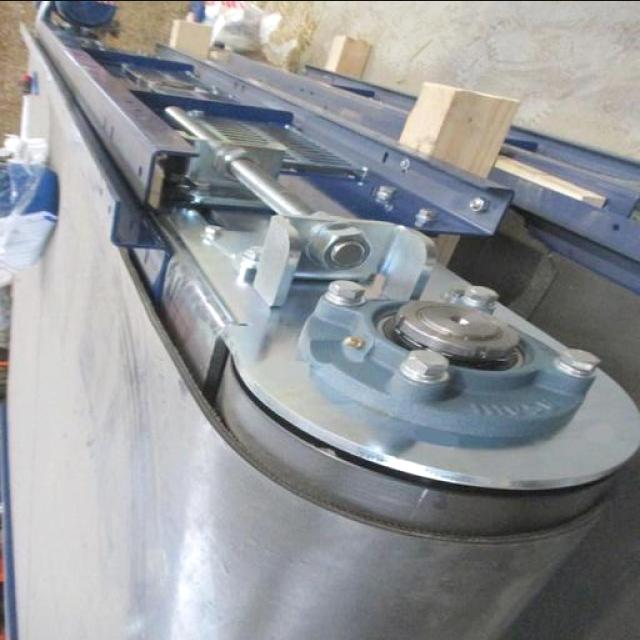conveyor: (9, 47, 605, 640)
